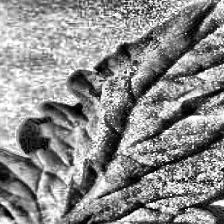Angular Leafspot: (181, 69, 224, 117), (100, 156, 153, 186), (89, 72, 115, 102)
